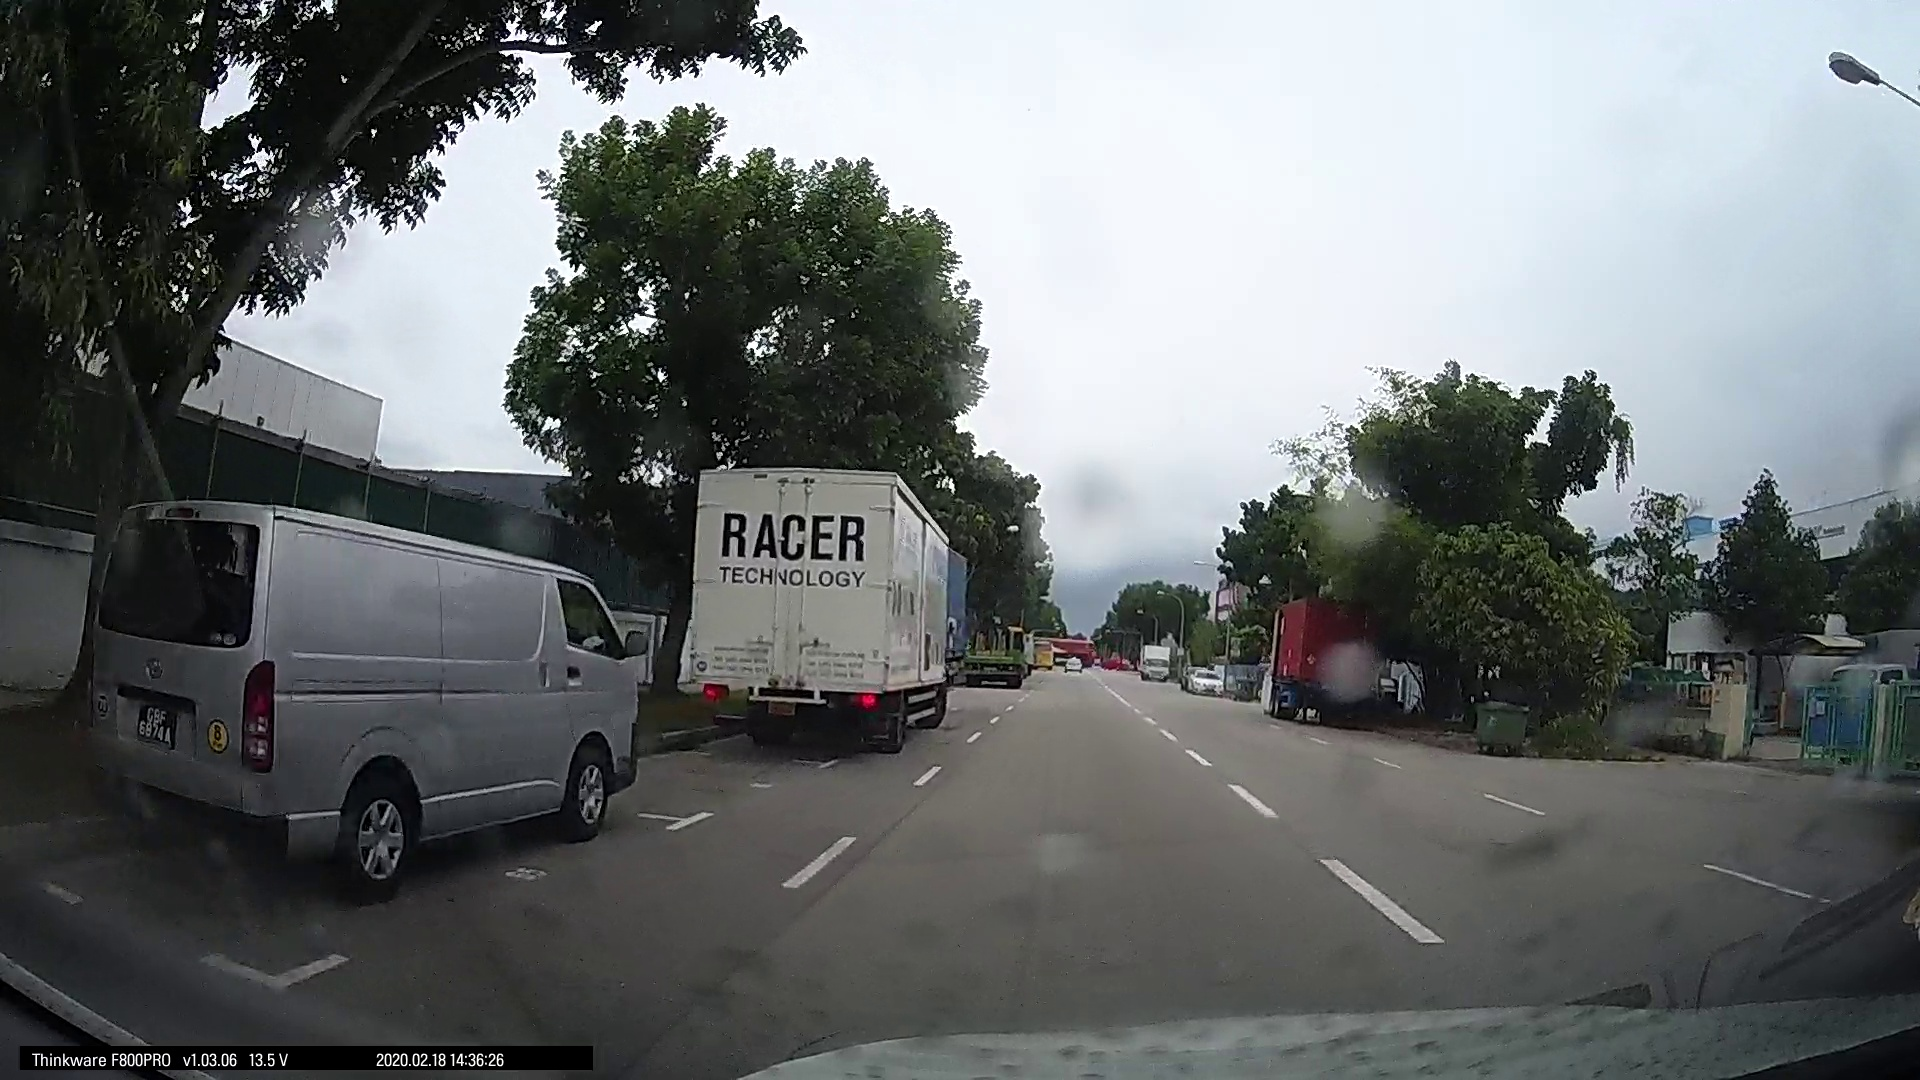Heavy Vehicle: (671, 459, 960, 760), (1257, 592, 1408, 729)
Light Vehicle: (75, 493, 628, 891)
